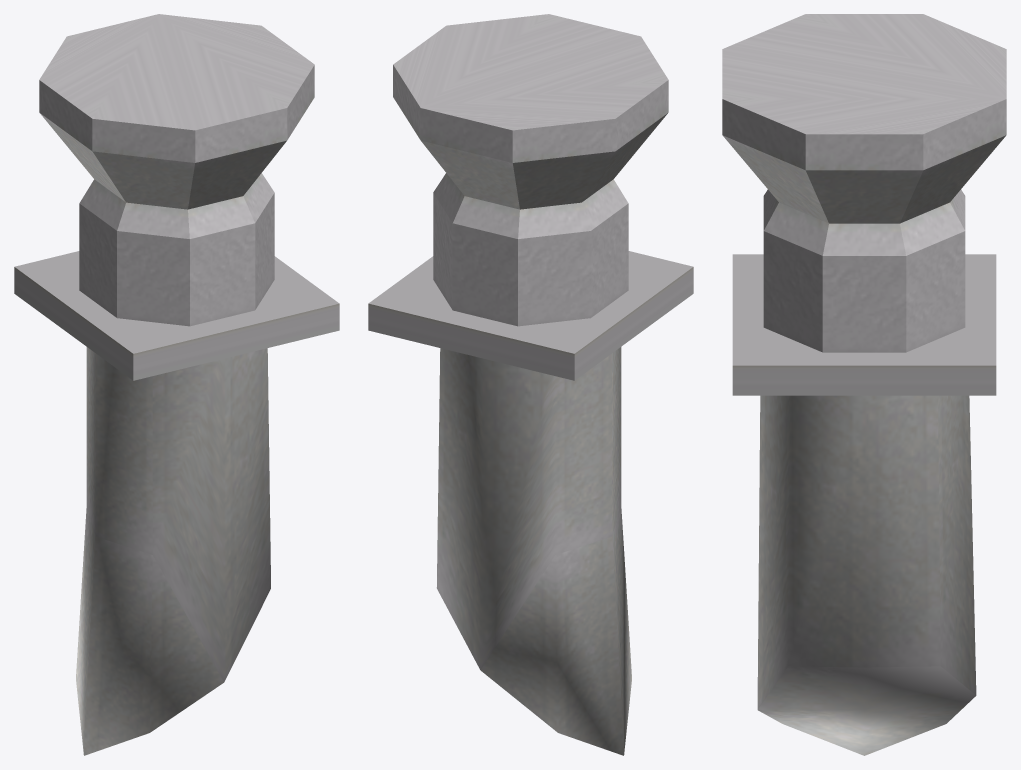
The model's file is general_obj_bigtower02_lod_01.glb.
3 renders of one model, left to right at view 1: azimuth 30°, elevation 25°; view 2: azimuth 150°, elevation 25°; view 3: azimuth 270°, elevation 25°, orthographic. The views are drawn at different scales.
Visible parts, largest first — view 1: Sphere01; view 2: Sphere01; view 3: Sphere01.
Part boxes in pixels (x1,y1,x2,y2): Sphere01: (14,14,339,755); Sphere01: (368,14,693,755); Sphere01: (722,14,1006,755).
Bounding box in the file's own units: 4.31 × 12.25 × 4.31.
1 material, 1 textured.
